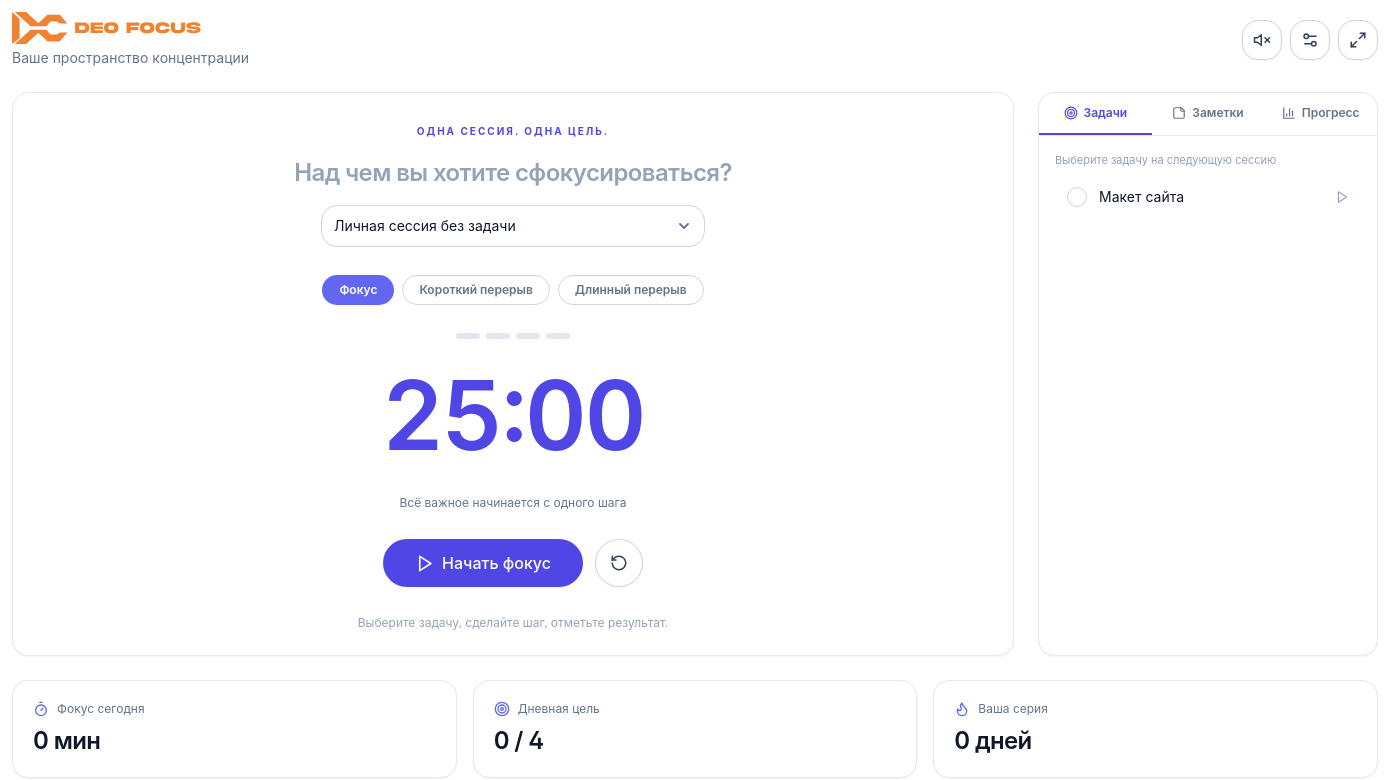
Scenario: shows a server conflict without pretending the timer has started
Click the button "Начать фокус": (483, 563) x1=383 y1=539 x2=583 y2=587
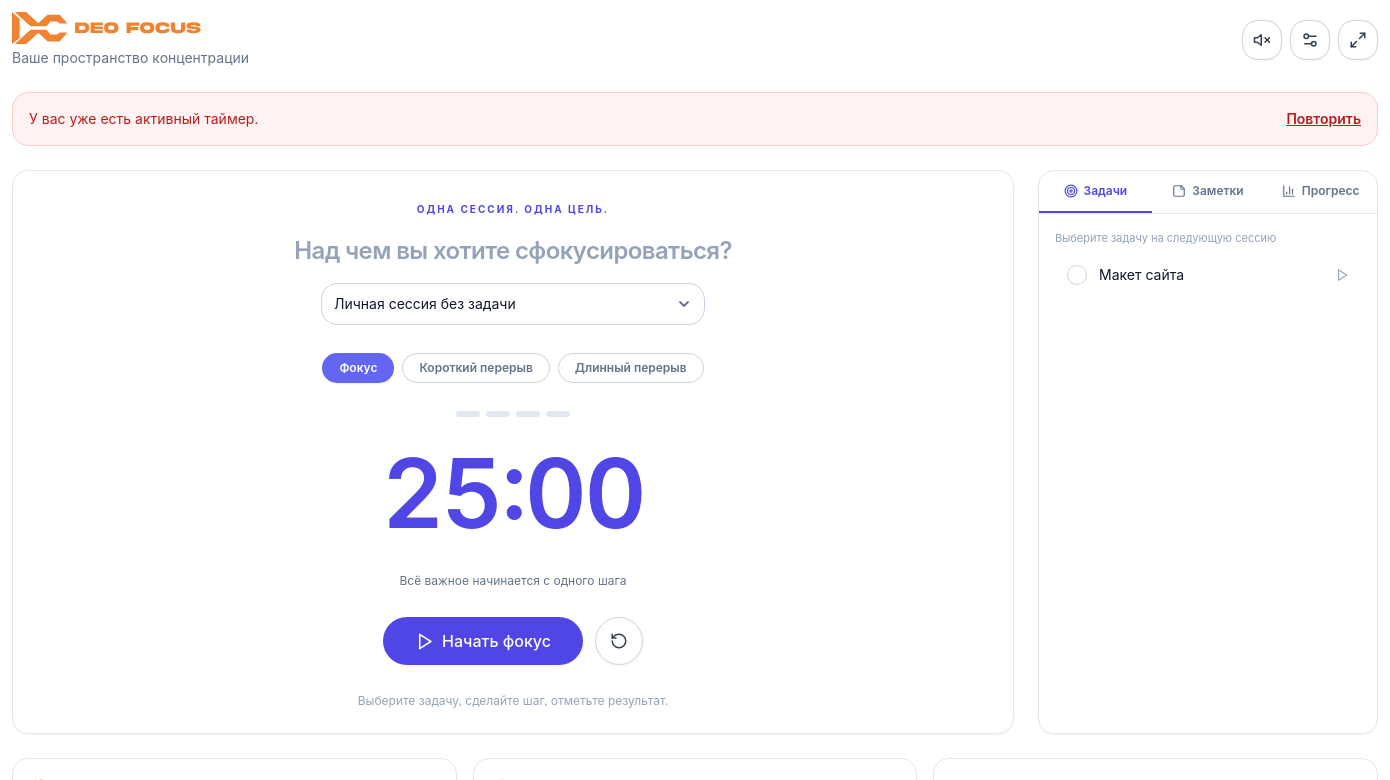
Result: the message shows "У вас уже есть активный таймер." at x1=29 y1=110 x2=258 y2=127
